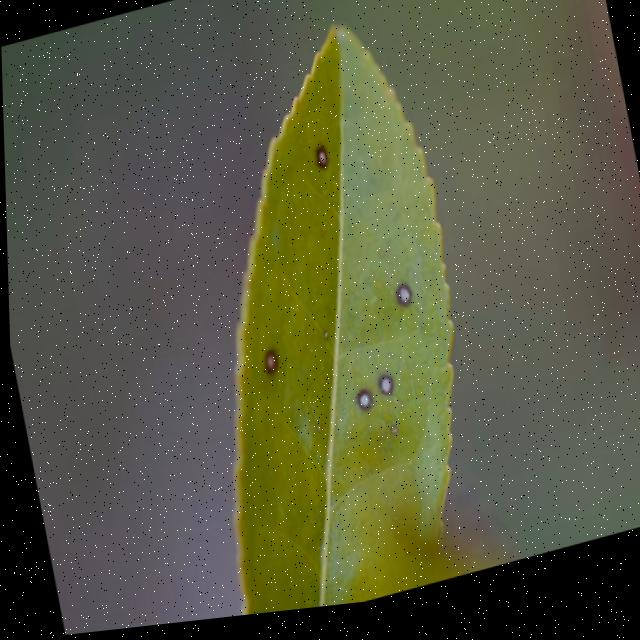Tea red scab: (309, 141, 339, 178), (389, 283, 414, 323), (372, 379, 394, 408), (354, 394, 374, 424), (262, 351, 280, 382)
